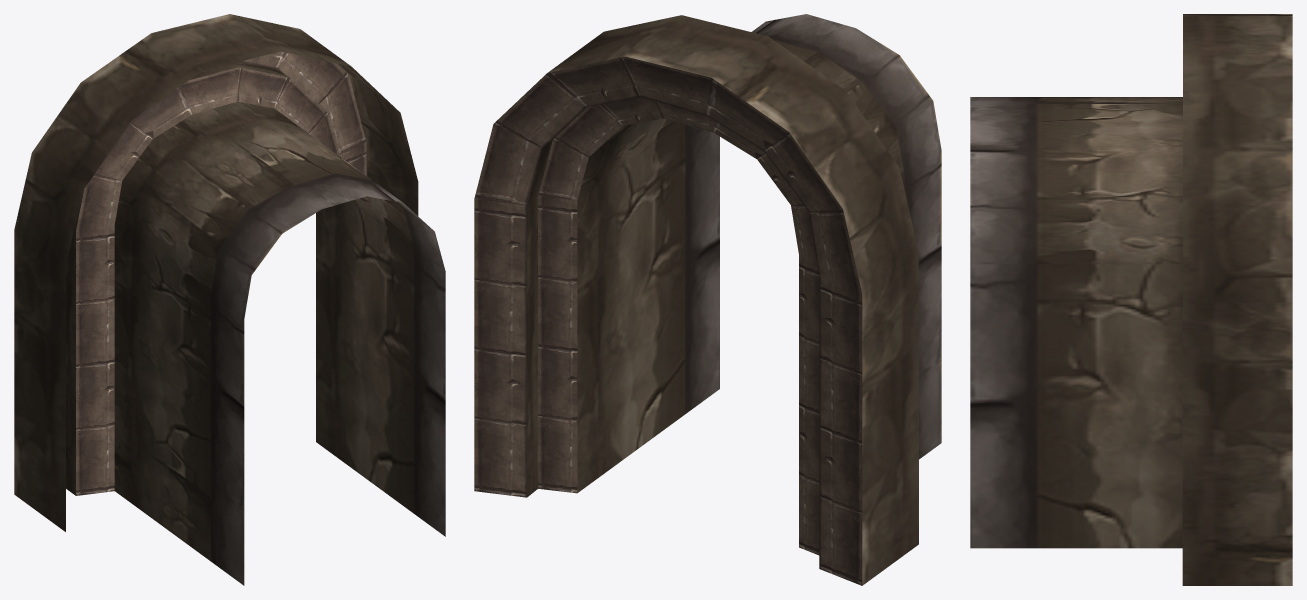
Rendered from arch_wall_up_gate.FBX.
3 views of the same model, side by side, from view 1: azimuth 30°, elevation 25°; view 2: azimuth 150°, elevation 25°; view 3: azimuth 270°, elevation 25° (orthographic). The views are drawn at different scales.
Parts seen in each view (by area): view 1: arch_wall_up_gate; view 2: arch_wall_up_gate; view 3: arch_wall_up_gate.
Boxes of the visible parts, bbox=[...] form: arch_wall_up_gate: bbox=[14, 14, 445, 585]; arch_wall_up_gate: bbox=[474, 14, 941, 585]; arch_wall_up_gate: bbox=[970, 14, 1292, 585].
Size of the model in its own units: 4.41 by 5.12 by 3.27.
